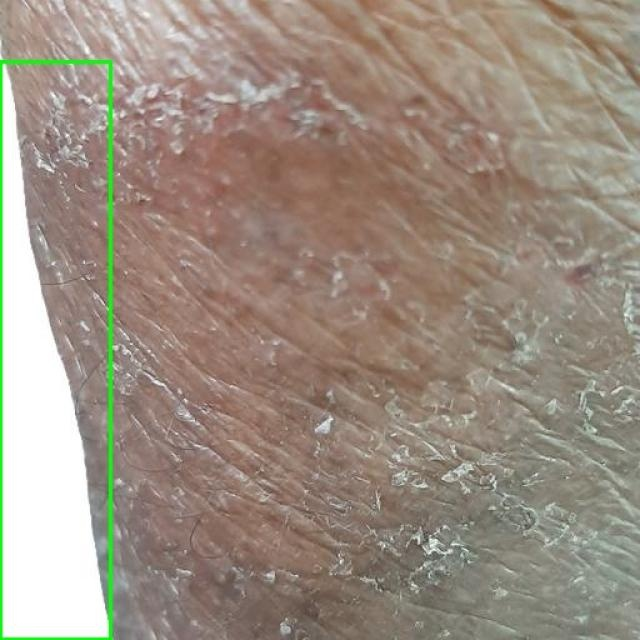Tinea Corporis: (0, 61, 110, 639)
